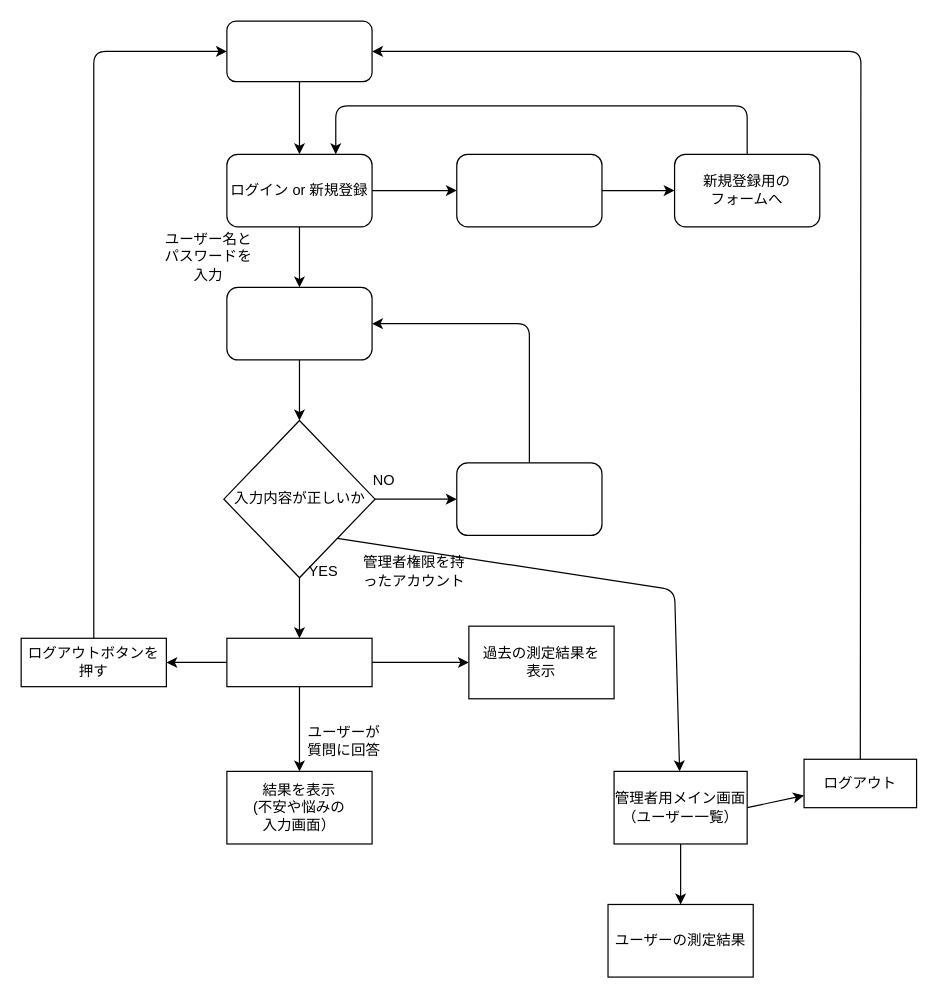
This 938x998 diagram has some shape labels left out. Here are the shapes that lost their labels. From the top down, the centre of each, then its label:
At (299,51): "ログイン画面".
At (529,190): "新規登録".
At (299,323): "ログインフォームの入力内容を受信".
At (529,498): "エラーメッセージ".
At (299,662): "メイン画面".
